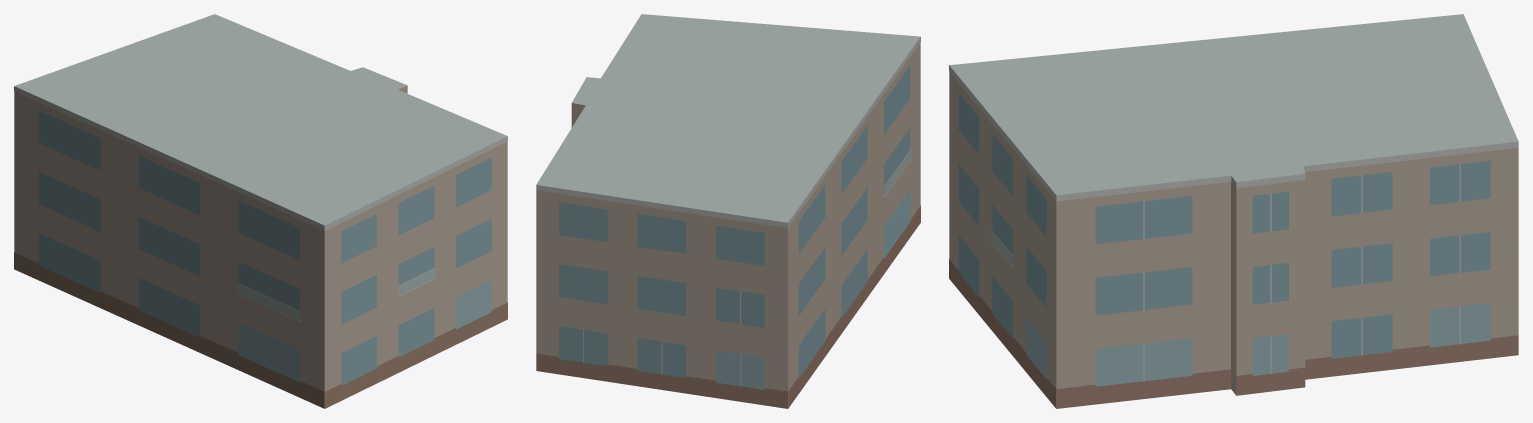
The model's file is survey-upis-33029030.glb.
3 views of the same model, side by side, from view 1: azimuth 30°, elevation 25°; view 2: azimuth 150°, elevation 25°; view 3: azimuth 270°, elevation 25° (orthographic). The views are drawn at different scales.
Parts seen in each view (by area): view 1: survey-upis-33029030.tmp; view 2: survey-upis-33029030.tmp; view 3: survey-upis-33029030.tmp.
Boxes of the visible parts, x1,y1,x2,y2 form: survey-upis-33029030.tmp: (14, 14, 507, 408); survey-upis-33029030.tmp: (536, 14, 920, 408); survey-upis-33029030.tmp: (949, 14, 1518, 408).
Size of the model in its own units: 15.49 by 8.5 by 20.56.
